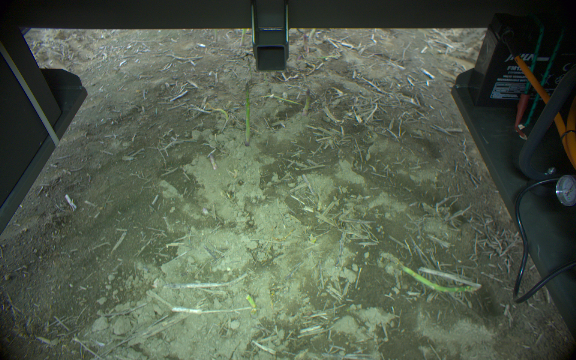aspa: (395, 261, 480, 297), (242, 81, 254, 147), (302, 86, 312, 114), (237, 29, 249, 46)
